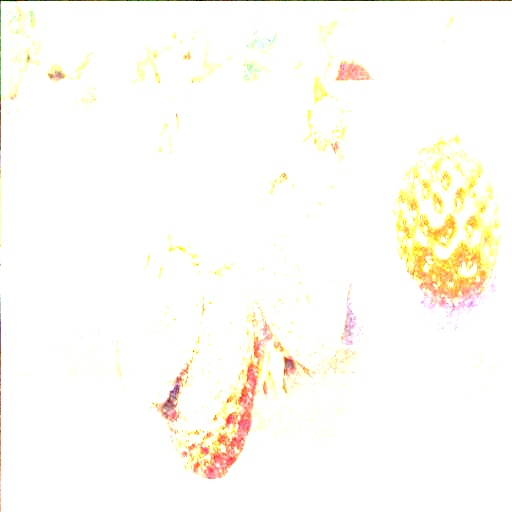Gray Mold: (151, 264, 267, 483), (244, 165, 353, 371), (111, 232, 210, 412)
